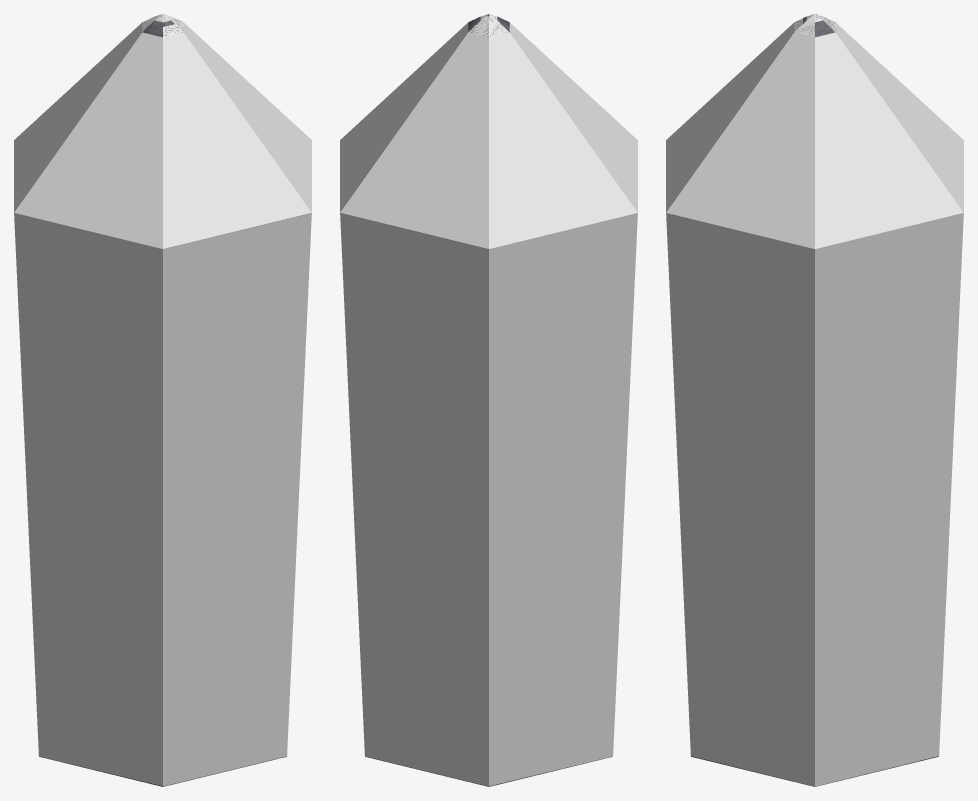
Rendered from lantern_toro.low.webp.glb.
3 views of the same model, side by side, from view 1: azimuth 30°, elevation 25°; view 2: azimuth 150°, elevation 25°; view 3: azimuth 270°, elevation 25° (orthographic).
Parts seen in each view (by area): view 1: COL; view 2: COL; view 3: COL.
Boxes of the visible parts, x1,y1,x2,y2 form: COL: (14, 14, 311, 786); COL: (340, 14, 637, 786); COL: (666, 14, 963, 786).
Size of the model in its own units: 0.7001 by 1.6 by 0.6062.
2 materials, 1 textured.
